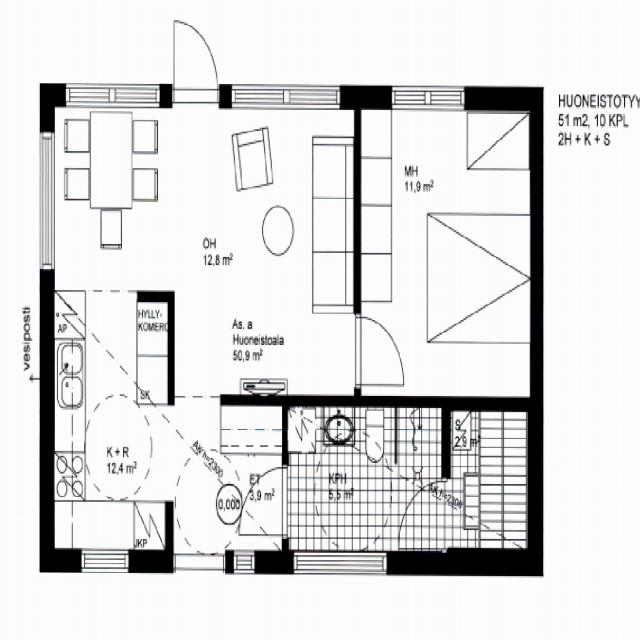door: (175, 552, 223, 640), (173, 16, 217, 108), (399, 482, 451, 550), (353, 318, 404, 386), (240, 469, 287, 536)
